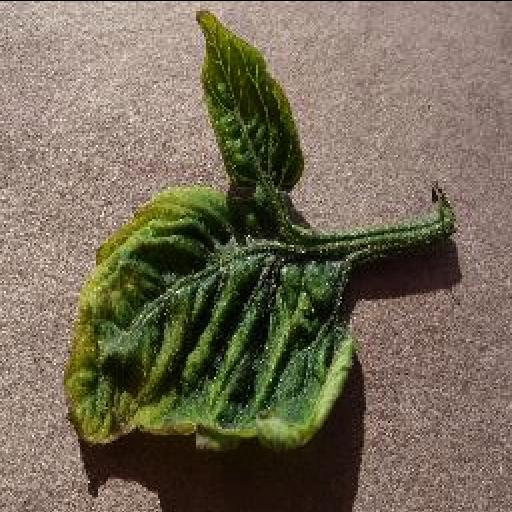disease_tomato: (66, 9, 358, 451)
